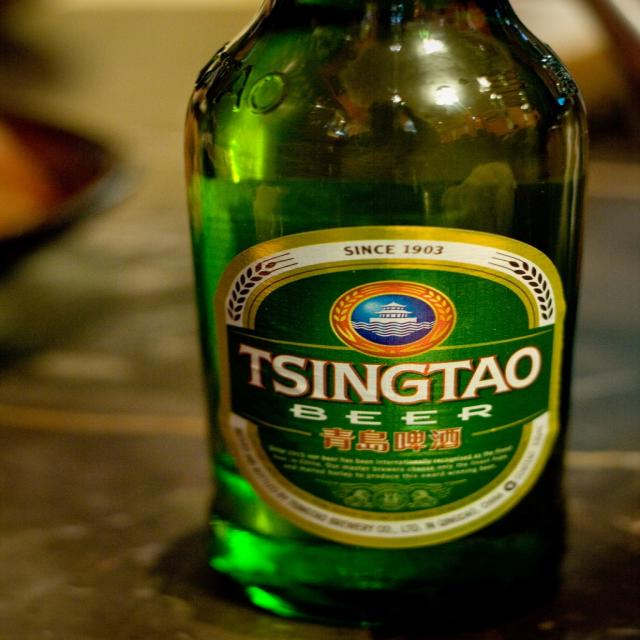tsingtao: (214, 226, 567, 552)
